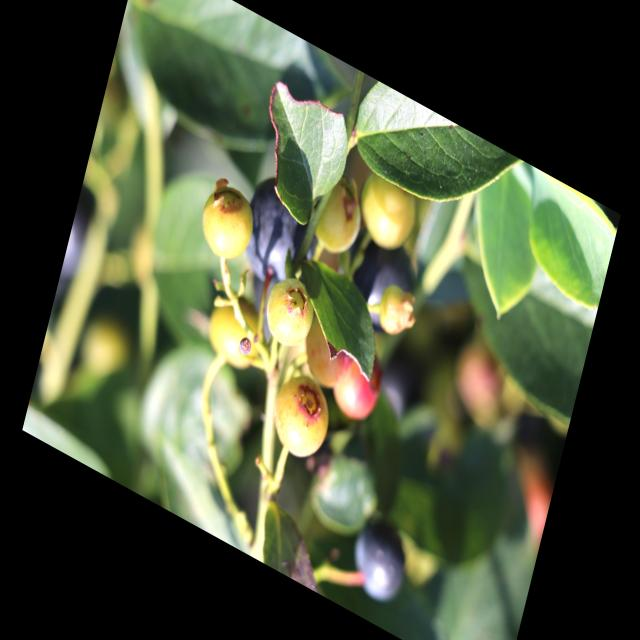blueberry: (236, 170, 320, 300), (346, 225, 426, 339), (344, 512, 413, 612)
blueberry-halfripe: (332, 345, 387, 432)
blueberry-unripe: (264, 365, 334, 468), (194, 177, 260, 271), (200, 287, 267, 379), (355, 166, 421, 257), (298, 308, 361, 401), (310, 169, 369, 268), (261, 271, 318, 358)
